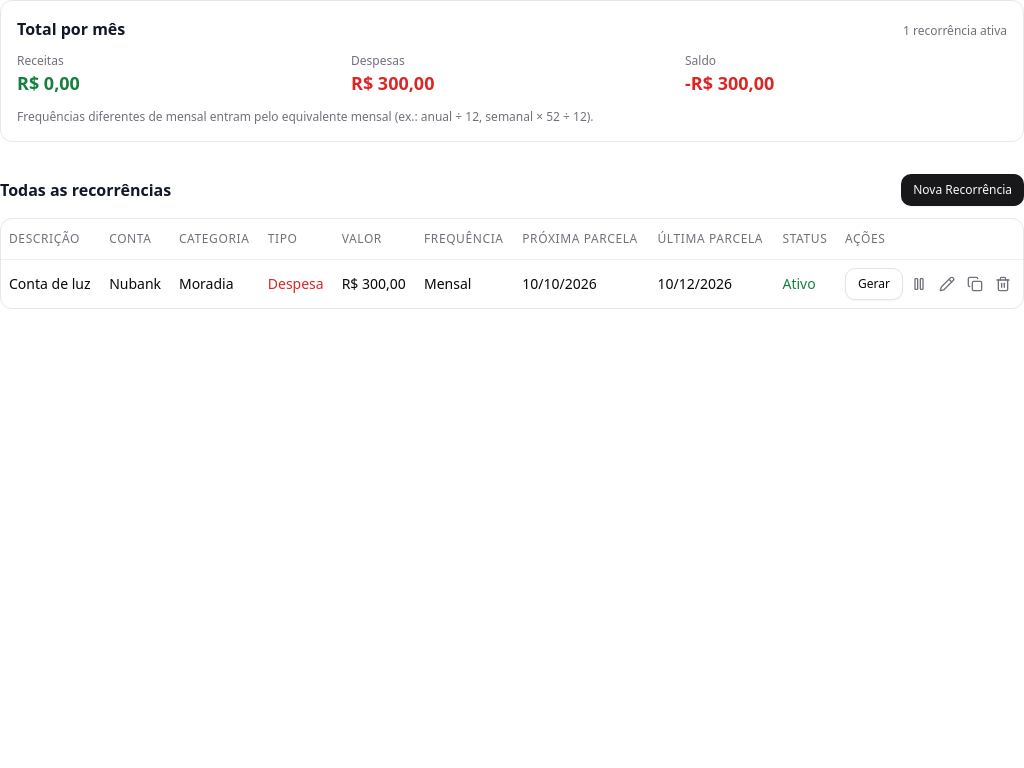
it: recorrente como meta de gasto — popup › some sem categoria
Click the button titled "Editar". click: (947, 284)
box: x1=935 y1=272 x2=959 y2=296
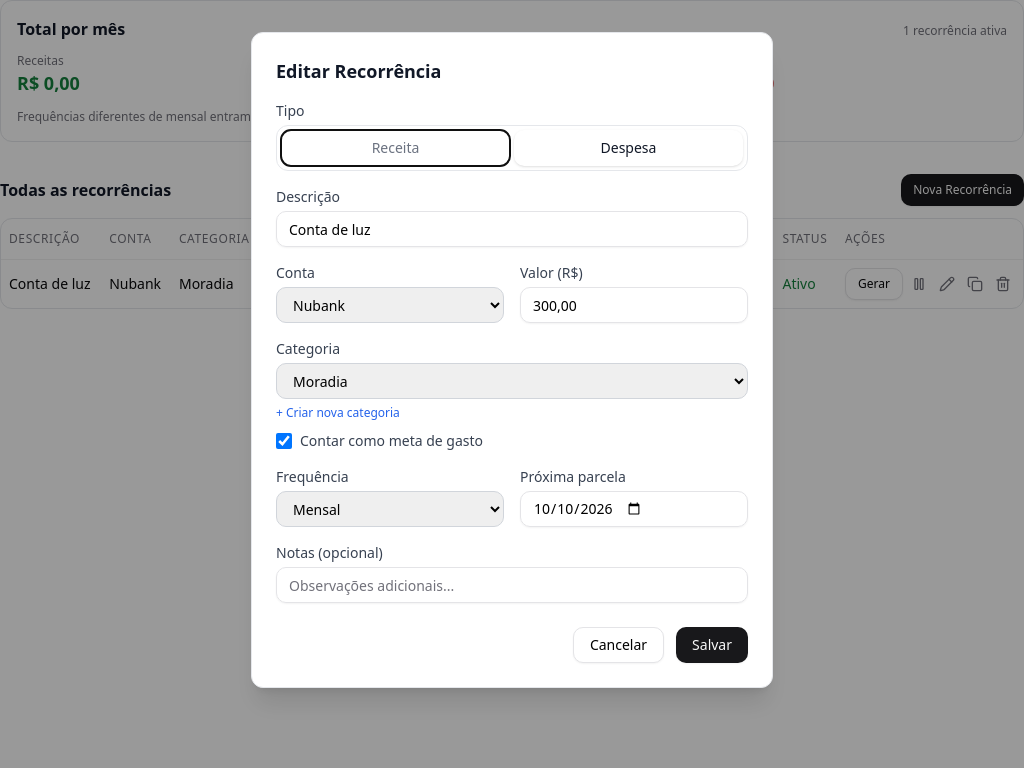
Result: the dialog is shown at x1=251 y1=32 x2=773 y2=688
Select "Selecione a categoria (opcional)" in the dropdown showing "Moradia". click: (512, 381)
box: x1=276 y1=363 x2=748 y2=399
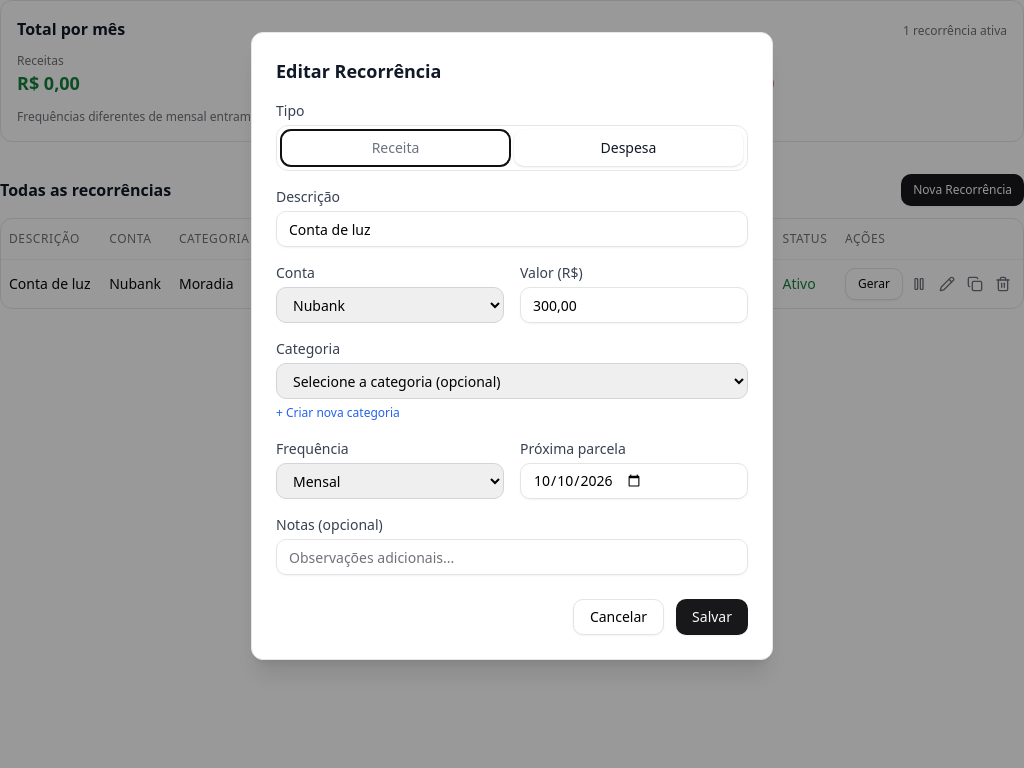
Result: the label labelled "Contar como meta de gasto" is gone
